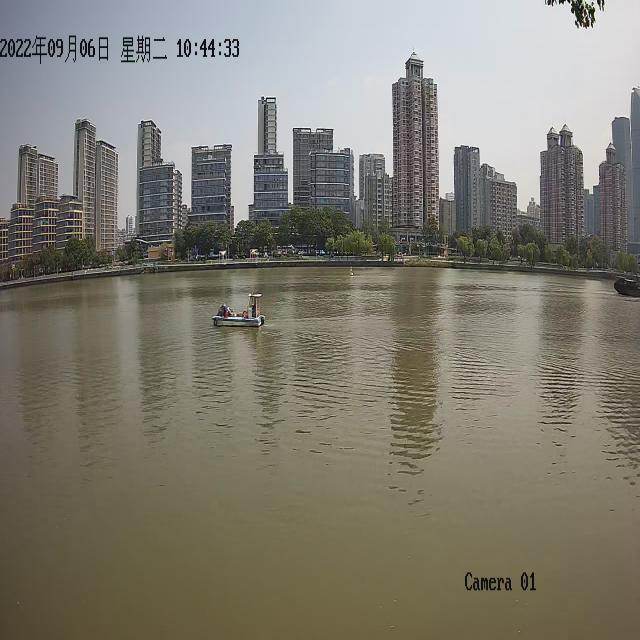ship: (211, 290, 265, 326), (614, 275, 640, 296)
